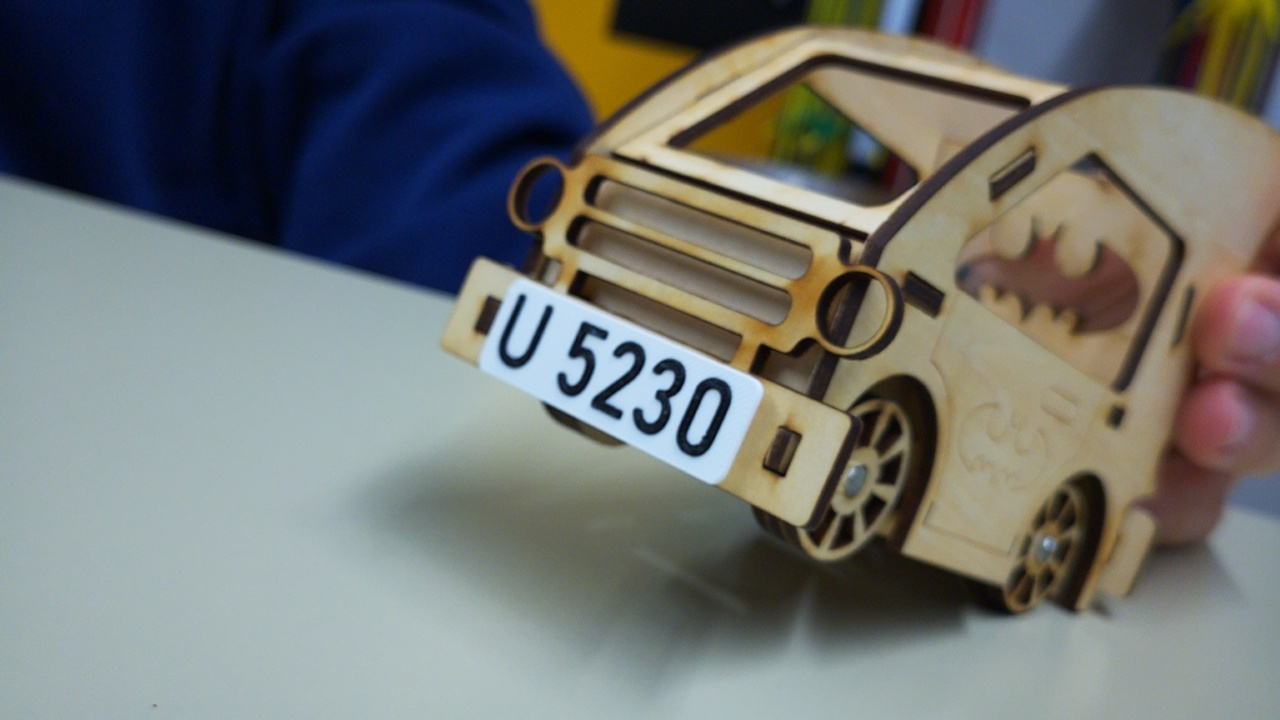license_plate: (476, 274, 765, 486)
